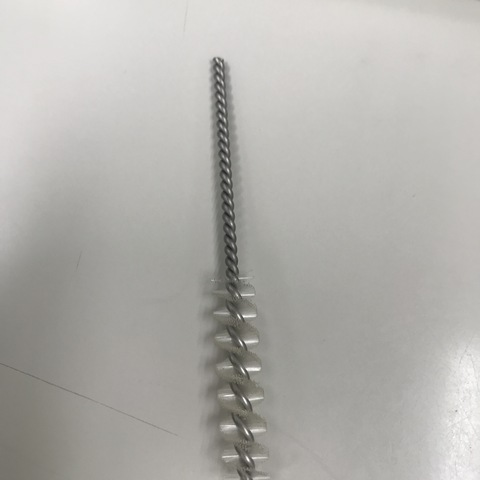Twist Brush-B: (201, 52, 272, 480)
